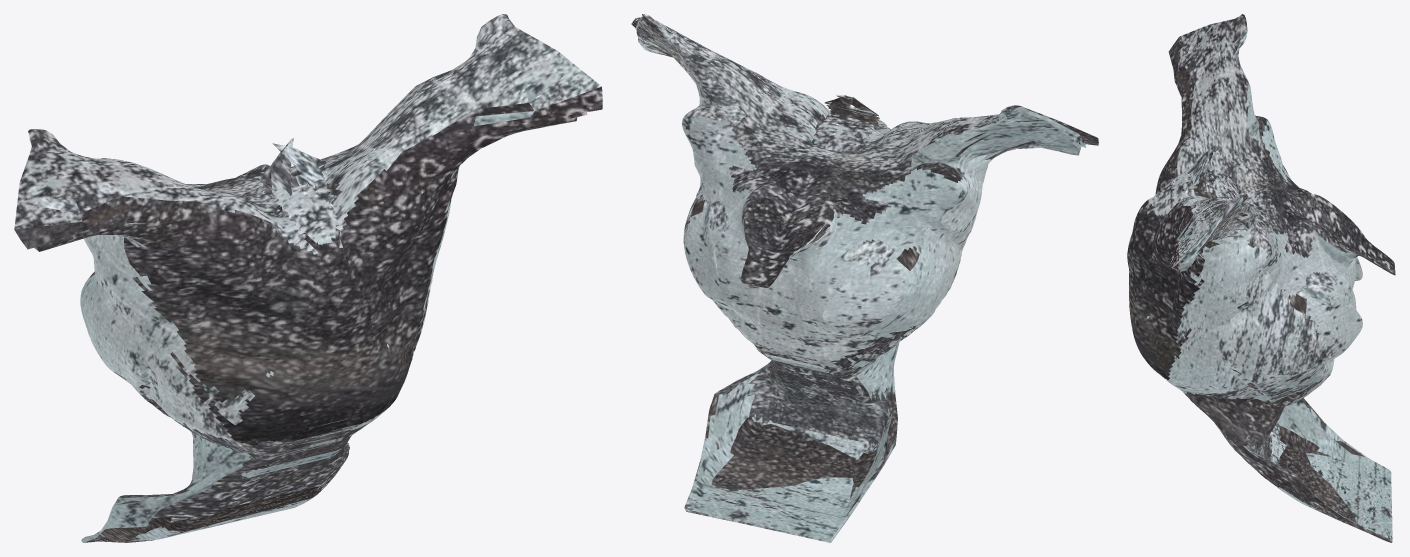
Rendered from unreal1(edit).glb.
3 renders of one model, left to right at view 1: azimuth 30°, elevation 25°; view 2: azimuth 150°, elevation 25°; view 3: azimuth 270°, elevation 25°, orthographic. The views are drawn at different scales.
Parts seen in each view (by area): view 1: Quad Sphere; view 2: Quad Sphere; view 3: Quad Sphere.
Part boxes in pixels (<box>): Quad Sphere: <box>14,14,602,542</box>; Quad Sphere: <box>631,14,1098,542</box>; Quad Sphere: <box>1127,14,1395,542</box>.
Bounding box in the file's own units: 6.5 × 5.49 × 3.3.
1 material, 1 textured.
